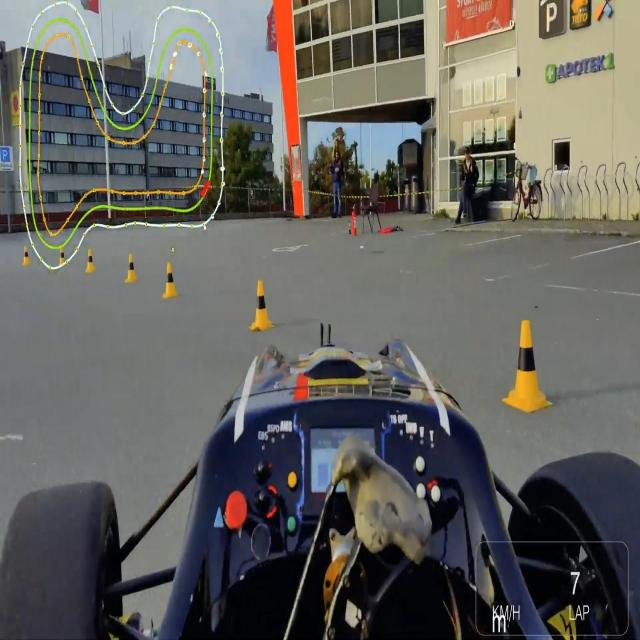yellow_cone: (501, 321, 552, 413), (250, 280, 272, 331), (163, 262, 178, 299), (125, 253, 137, 285), (86, 249, 95, 273), (58, 245, 67, 267), (23, 244, 30, 267)
